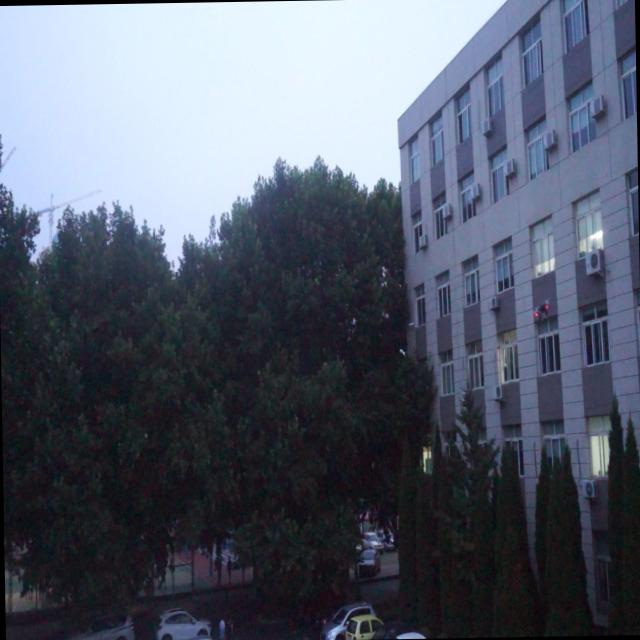drone: (530, 292, 552, 330)
